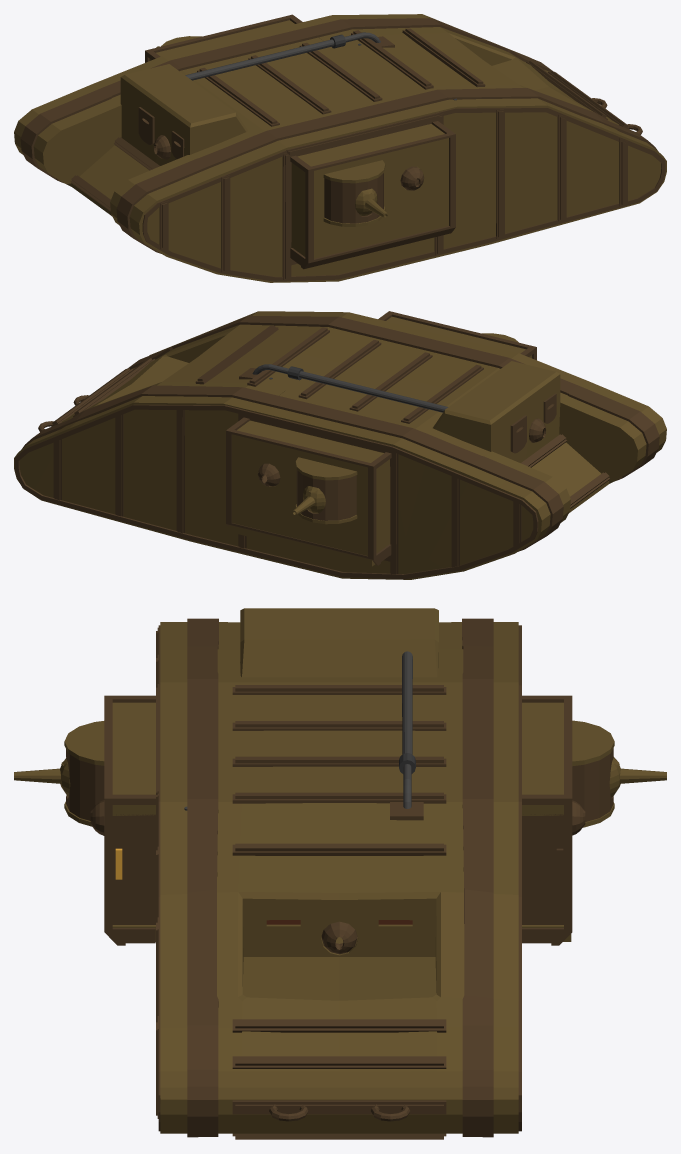
The model's file is British Tank.fbx.
3 views of the same model, one above another, from view 1: azimuth 30°, elevation 25°; view 2: azimuth 150°, elevation 25°; view 3: azimuth 270°, elevation 25° (orthographic). The views are drawn at different scales.
Parts seen in each view (by area): view 1: Tank, Main Gun.L, Main Gun Barrel.L, Tank Front Flap 1, Tank Gun Slot.L; view 2: Tank, Main Gun.R, Main Gun Barrel.R, Tank Front Flap 1, Tank Gun Slot.R; view 3: Tank, Tank Door.L, Tank Door.R, Main Gun.R, Main Gun.L, Main Gun Barrel.R, Tank Rear Gun Slot, Main Gun Barrel.L.
Part boxes in pixels (bbox=[...]): Tank: bbox=[14, 14, 666, 282]; Main Gun.L: bbox=[324, 173, 383, 223]; Main Gun Barrel.L: bbox=[355, 188, 388, 218]; Tank Front Flap 1: bbox=[138, 107, 154, 144]; Tank Gun Slot.L: bbox=[400, 166, 424, 190]; Tank: bbox=[14, 311, 666, 579]; Main Gun.R: bbox=[296, 470, 356, 520]; Main Gun Barrel.R: bbox=[292, 486, 325, 515]; Tank Front Flap 1: bbox=[510, 415, 526, 453]; Tank Gun Slot.R: bbox=[258, 463, 280, 486]; Tank: bbox=[64, 608, 614, 1139]; Tank Door.L: bbox=[112, 814, 155, 924]; Tank Door.R: bbox=[522, 814, 563, 924]; Main Gun.R: bbox=[572, 748, 613, 821]; Main Gun.L: bbox=[66, 749, 104, 820]; Main Gun Barrel.R: bbox=[609, 757, 666, 797]; Tank Rear Gun Slot: bbox=[321, 921, 357, 954]; Main Gun Barrel.L: bbox=[14, 758, 70, 796].
Size of the model in its own units: 5352 by 1588 by 3850.
